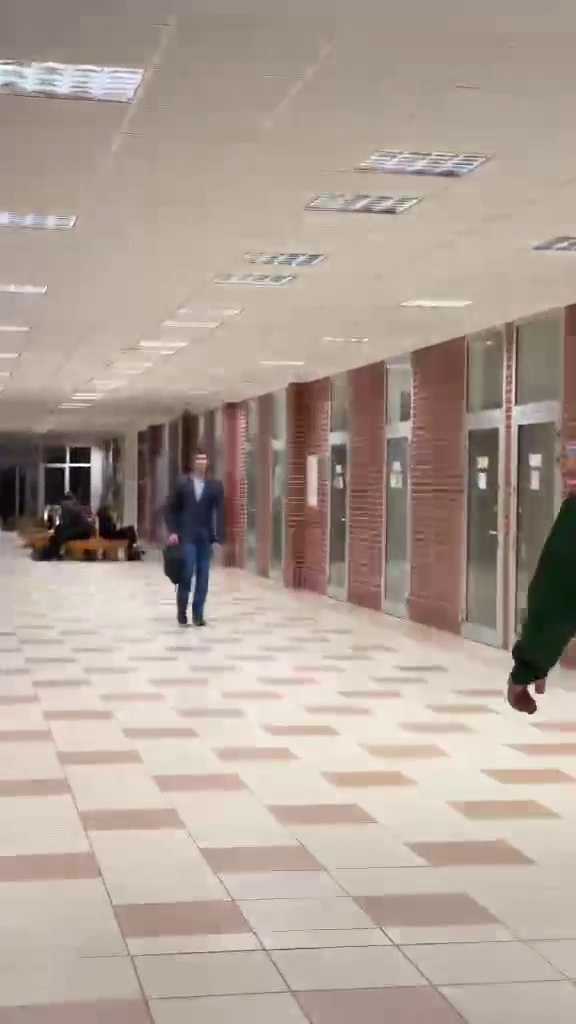no vest: (160, 448, 234, 613)
